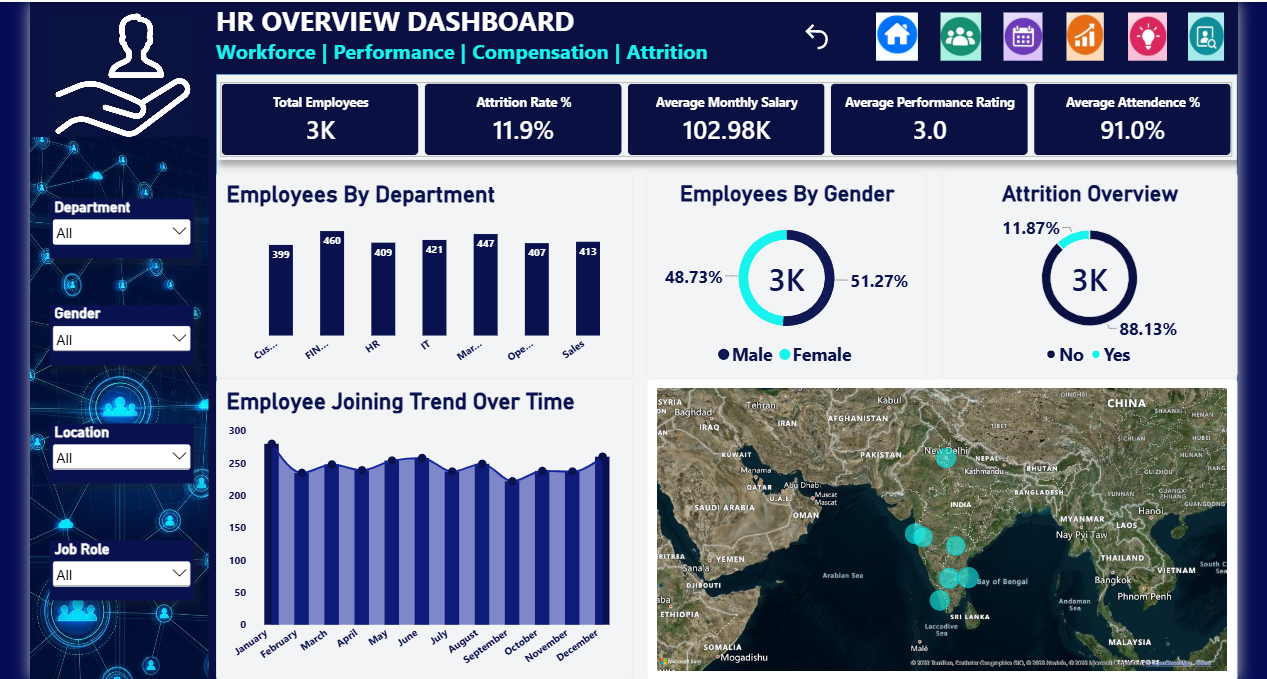

The dashboard page shown, as its layout file describes it:
{"tool":"powerbi","page":{"name":"HR Overview","canvas":[1920,1080],"ordinal":1},"visuals":[{"type":"image","box":[0,213.9,283.9,866.1],"z":500},{"type":"shape","box":[295.9,114.5,1624.8,966.3],"z":1000},{"type":"clusteredColumnChart","title":"Employees By Department","fields":{"Category":["Final_HR_Data.Department","Final_HR_Data.Job Role"],"Y":["Count(Final_HR_Data.Employee ID)"]},"box":[295.9,269.6,663.3,329.3],"z":2000},{"type":"donutChart","title":" Employees By Gender","fields":{"Category":["Final_HR_Data.Gender"],"Y":["Count(Final_HR_Data.Employee ID)"]},"box":[980.6,269.6,446.2,329.3],"z":3000},{"type":"lineClusteredColumnComboChart","title":"Employee Joining Trend Over Time","fields":{"Category":["Final_HR_Data.Joining Date.Variation.Date Hierarchy.Month"],"Y":["Count(Final_HR_Data.Employee ID)"],"Y2":["Measure Table.Cumilative Employees"]},"box":[295.9,598.9,663.3,482],"z":4000},{"type":"slicer","fields":{"Values":["Final_HR_Data.Department"]},"box":[31,312.6,229,95.4],"z":5000},{"type":"slicer","fields":{"Values":["Final_HR_Data.Gender"]},"box":[31,482,229,95.4],"z":6000},{"type":"slicer","fields":{"Values":["Final_HR_Data.Location"]},"box":[31,670.4,229,95.4],"z":7000},{"type":"slicer","fields":{"Values":["Final_HR_Data.Job Role"]},"box":[31,856.5,229,95.4],"z":8000},{"type":"textbox","box":[295.9,0,796.9,114.5],"z":9000},{"type":"cardVisual","fields":{"Data":["Measure Table.Total Employees","Measure Table.Attrition Rate %","Measure Table.Average Monthly Salary","Measure Table.Average Performance Rating","Avg(Final_HR_Data.Attendence %)"]},"box":[295.9,114.5,1624.8,136],"z":10000},{"type":"map","fields":{"Category":["Final_HR_Data.Location"],"Size":["Count(Final_HR_Data.Employee ID)"]},"box":[980.6,598.9,940.1,482],"z":11000},{"type":"donutChart","title":"Attrition Overview","fields":{"Category":["Final_HR_Data.Attrition"],"Y":["Count(Final_HR_Data.Employee ID)"]},"box":[1450.6,269.6,470,329.3],"z":12000},{"type":"actionButton","box":[1345.7,16.7,66.8,76.3],"z":13000},{"type":"actionButton","box":[1448.3,16.7,64.4,76.3],"z":14000},{"type":"actionButton","box":[1548.5,16.7,62,76.3],"z":15000},{"type":"actionButton","box":[1648.7,16.7,59.6,76.3],"z":16000},{"type":"actionButton","box":[1746.5,16.7,62,76.3],"z":17000},{"type":"actionButton","box":[1841.9,16.7,57.3,76.3],"z":18000},{"type":"actionButton","box":[1195.3,16.7,112.1,76.3],"z":19000},{"type":"image","box":[31,16.7,229,198],"z":20000}]}

Visuals, with their boxes on the page's 1920x1080 design canvas (x1, y1, x2, y2). These are canvas units, not pixel positions in the 1267x679 screenshot, which may show the page scaled, cropped or inside an application window:
image: 0/214/284/1080
shape: 296/114/1921/1081
"Employees By Department" clusteredColumnChart: 296/270/959/599
" Employees By Gender" donutChart: 981/270/1427/599
"Employee Joining Trend Over Time" lineClusteredColumnComboChart: 296/599/959/1081
slicer - Final_HR_Data.Department: 31/313/260/408
slicer - Final_HR_Data.Gender: 31/482/260/577
slicer - Final_HR_Data.Location: 31/670/260/766
slicer - Final_HR_Data.Job Role: 31/856/260/952
textbox: 296/0/1093/114
cardVisual - Measure Table.Total Employees x Measure Table.Attrition Rate %: 296/114/1921/250
map - Final_HR_Data.Location x Count(Final_HR_Data.Employee ID): 981/599/1921/1081
"Attrition Overview" donutChart: 1451/270/1921/599
actionButton: 1346/17/1412/93
actionButton: 1448/17/1513/93
actionButton: 1548/17/1610/93
actionButton: 1649/17/1708/93
actionButton: 1746/17/1808/93
actionButton: 1842/17/1899/93
actionButton: 1195/17/1307/93
image: 31/17/260/215
